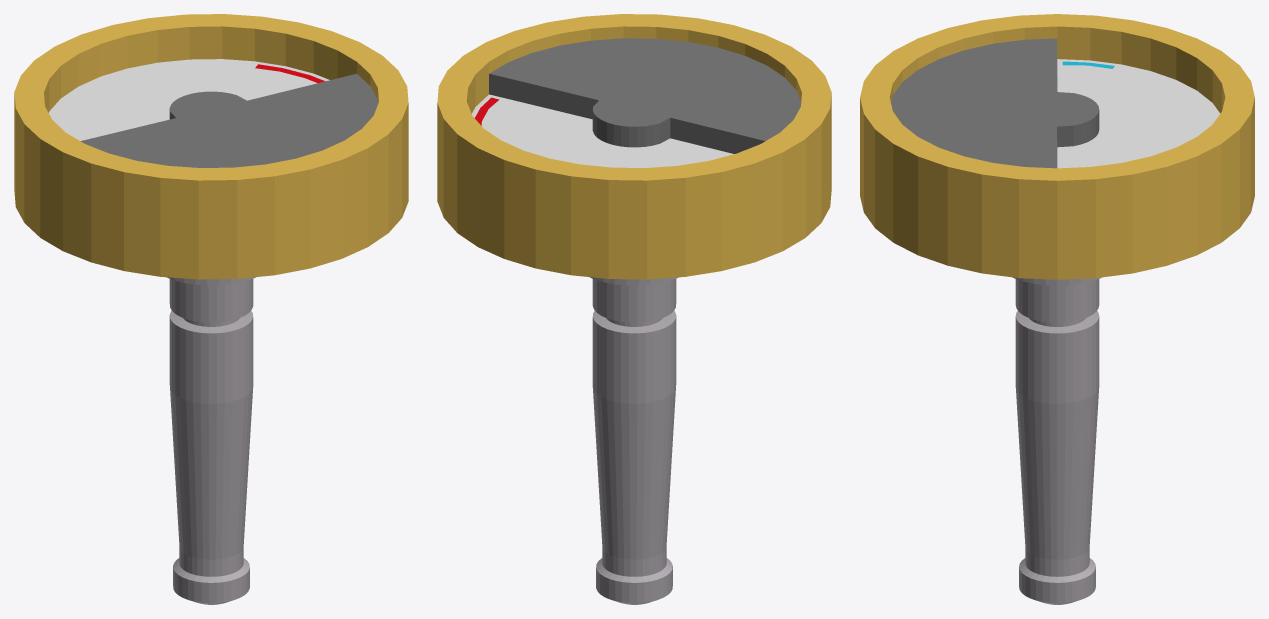
File: pressuregauge.fbx
The picture shows the model from 3 angles, left to right: view 1: azimuth 30°, elevation 25°; view 2: azimuth 150°, elevation 25°; view 3: azimuth 270°, elevation 25°; orthographic projection.
Parts seen in each view (by area): view 1: Cylinder; view 2: Cylinder; view 3: Cylinder.
Part boxes in pixels (bbox=[...]): Cylinder: bbox=[14, 14, 408, 604]; Cylinder: bbox=[437, 14, 831, 604]; Cylinder: bbox=[860, 14, 1254, 604].
Size of the model in its own units: 230 by 321 by 230.
